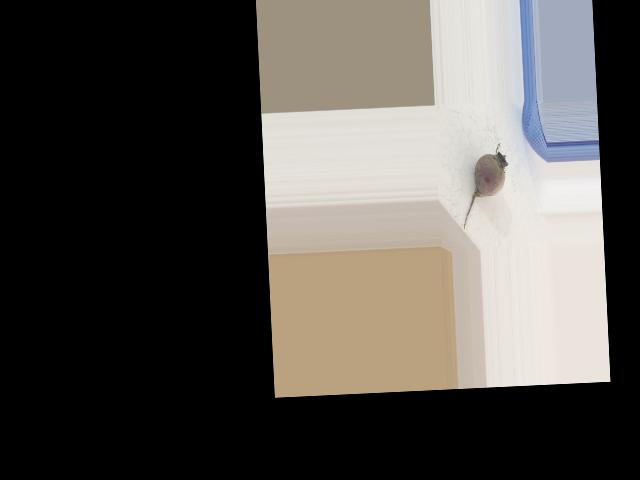beet: (459, 143, 510, 229)
